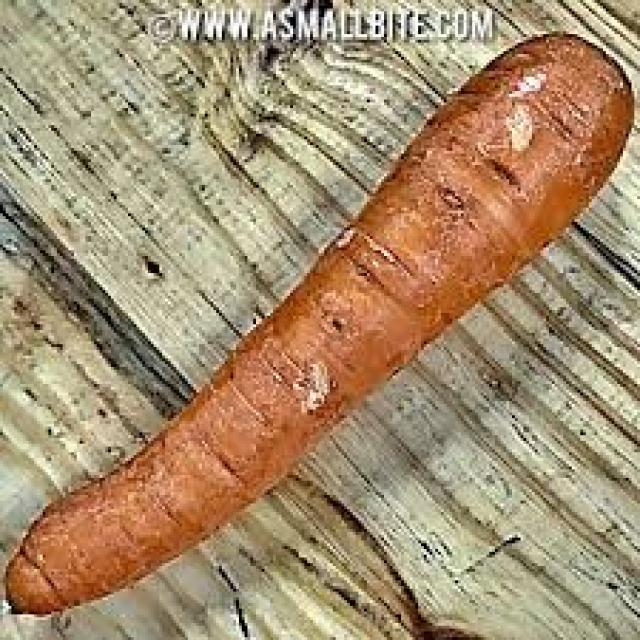Stale_Carrot: (10, 31, 628, 618)
